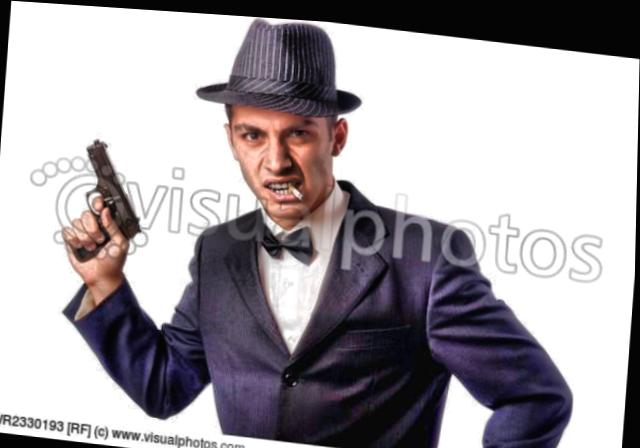pistol: (56, 134, 149, 267)
